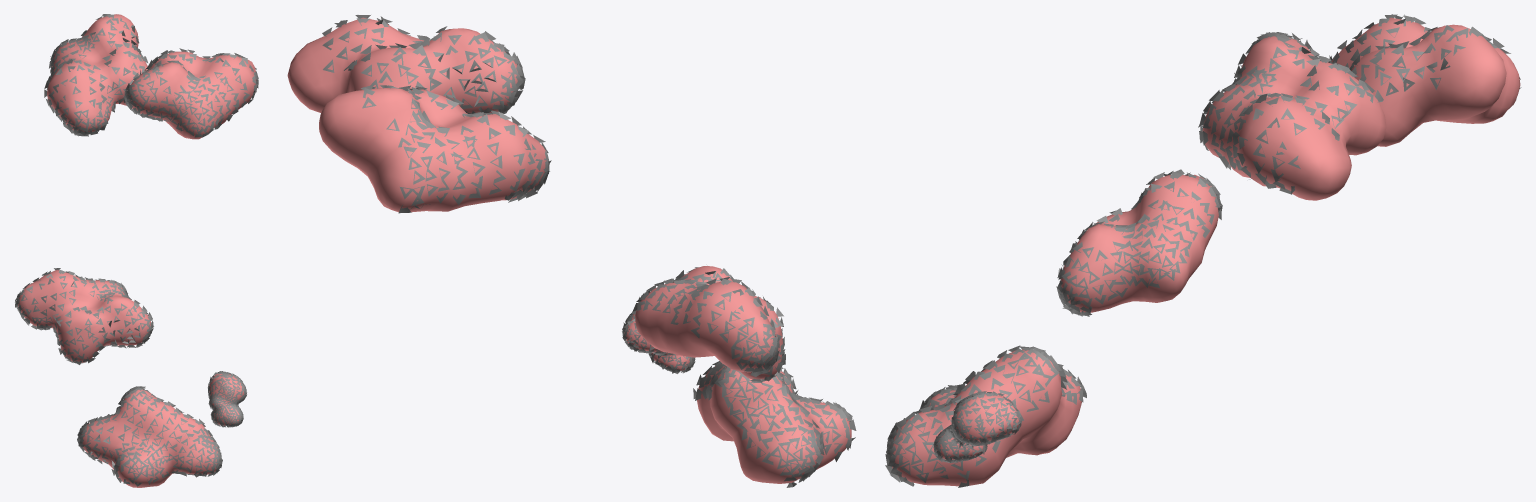
File: SM_ENV_LKNVLD_TreeSet_Q.gltf
The picture shows the model from 3 angles, left to right: view 1: azimuth 30°, elevation 25°; view 2: azimuth 150°, elevation 25°; view 3: azimuth 270°, elevation 25°; orthographic projection. The views are drawn at different scales.
Parts seen in each view (by area): view 1: SM_ENV_LKNVLD_TreeSet_Q; view 2: SM_ENV_LKNVLD_TreeSet_Q; view 3: SM_ENV_LKNVLD_TreeSet_Q.
Boxes of the visible parts, box(x1,y1,x2,y2) form: SM_ENV_LKNVLD_TreeSet_Q: box(15, 14, 258, 487); SM_ENV_LKNVLD_TreeSet_Q: box(287, 15, 856, 487); SM_ENV_LKNVLD_TreeSet_Q: box(885, 14, 1521, 487).
Size of the model in its own units: 29.61 by 34.08 by 37.05.
